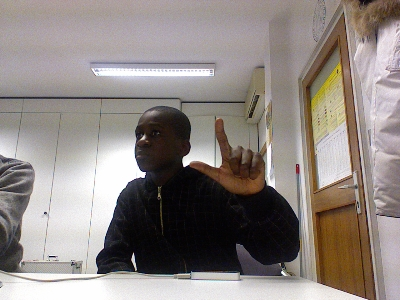枪: (187, 116, 266, 196)
